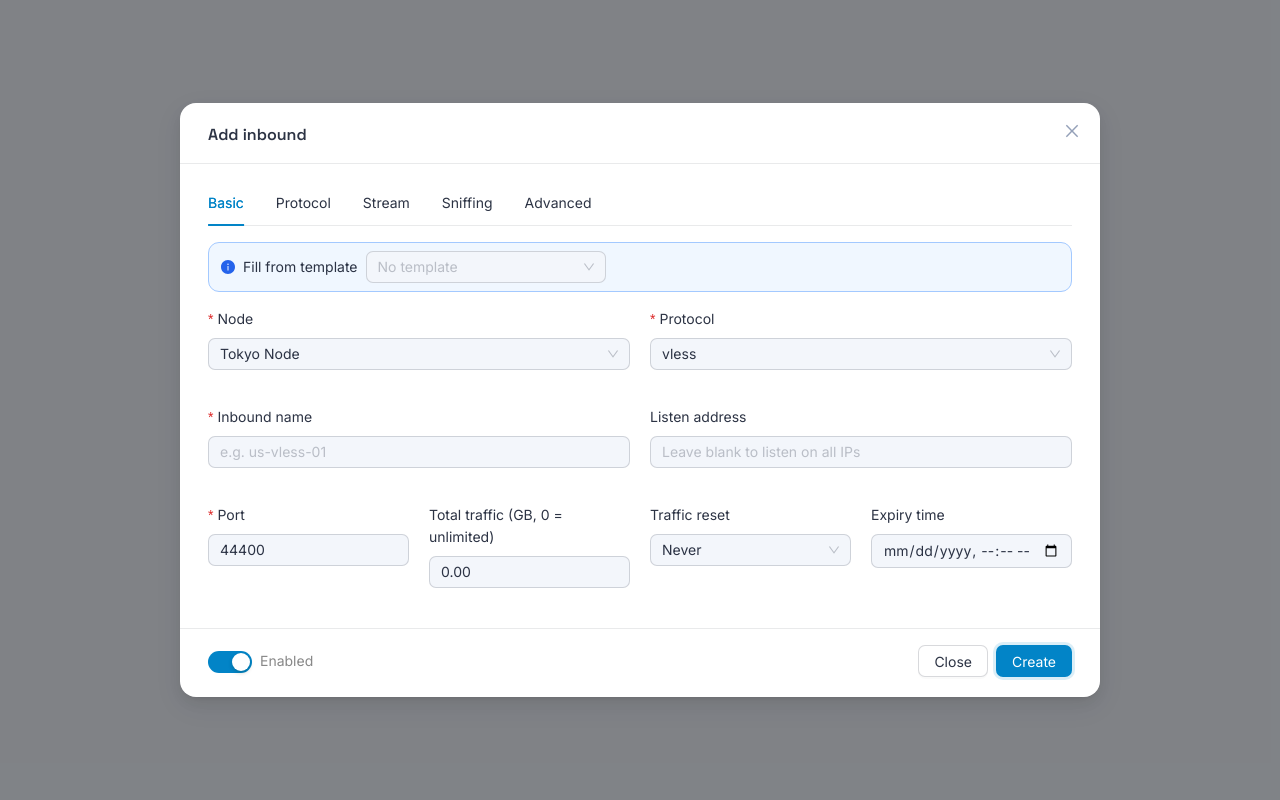
Test: InboundEditor › validates required remark and port before creating
Clear the number field labelled "Port": point(308, 550) [209,535,408,565]
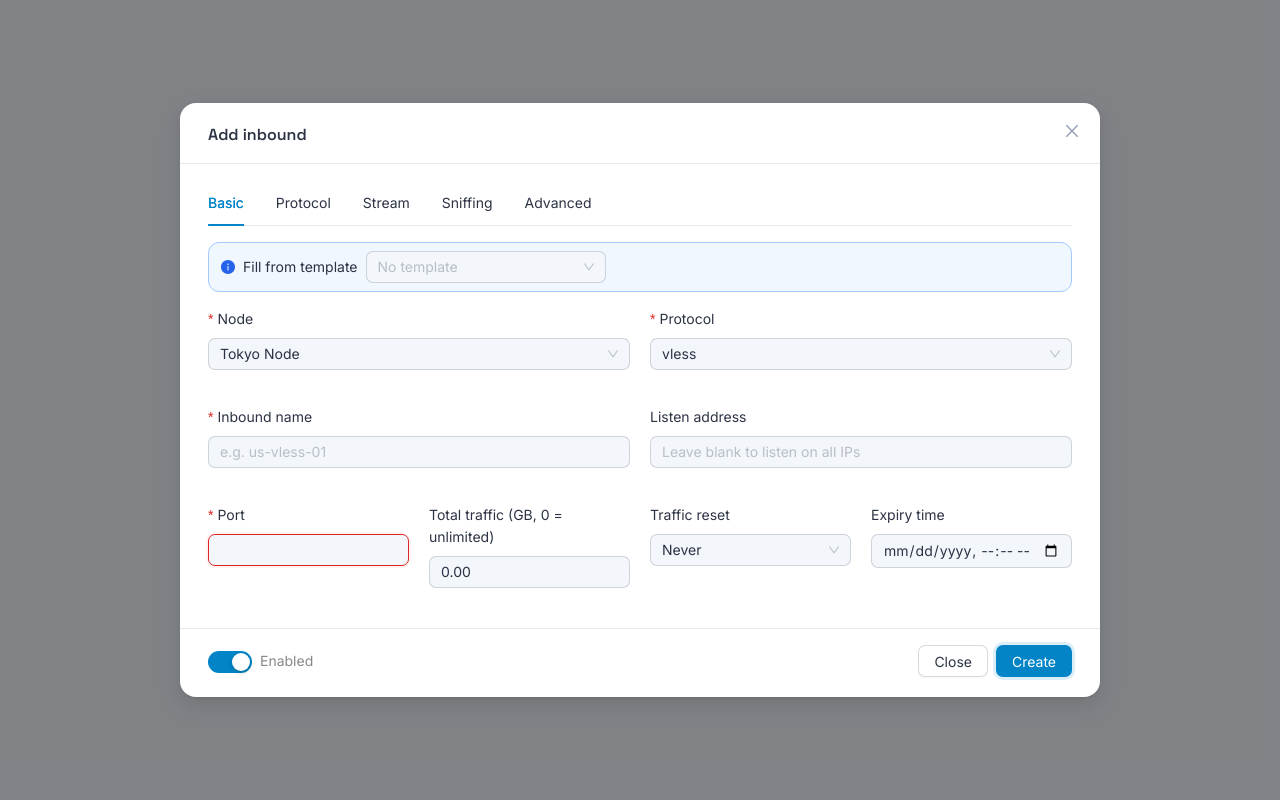
Click the button "Create": point(1034, 661) [996,645,1072,677]
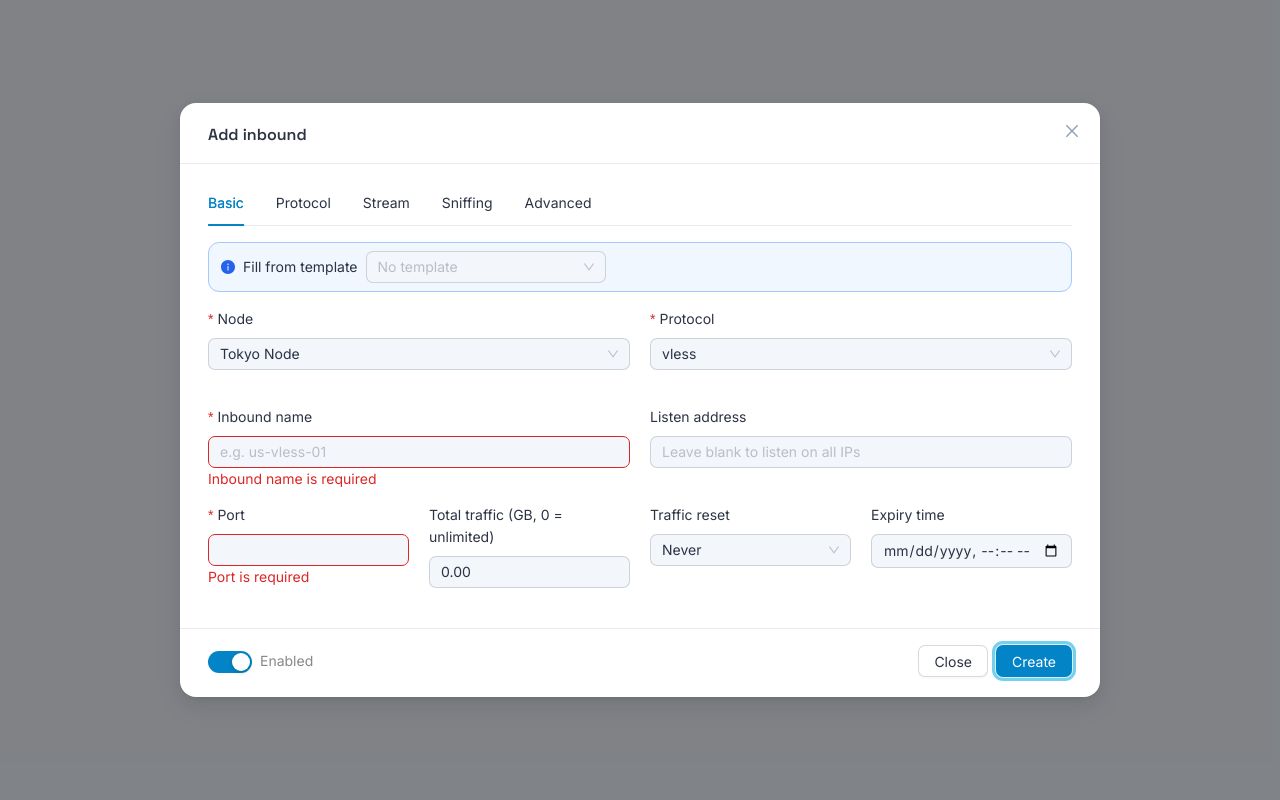
expect the text "Inbound name is required" is shown: met, box [208,470,376,487]
expect the text "Port is required" is shown: met, box [208,568,309,585]
